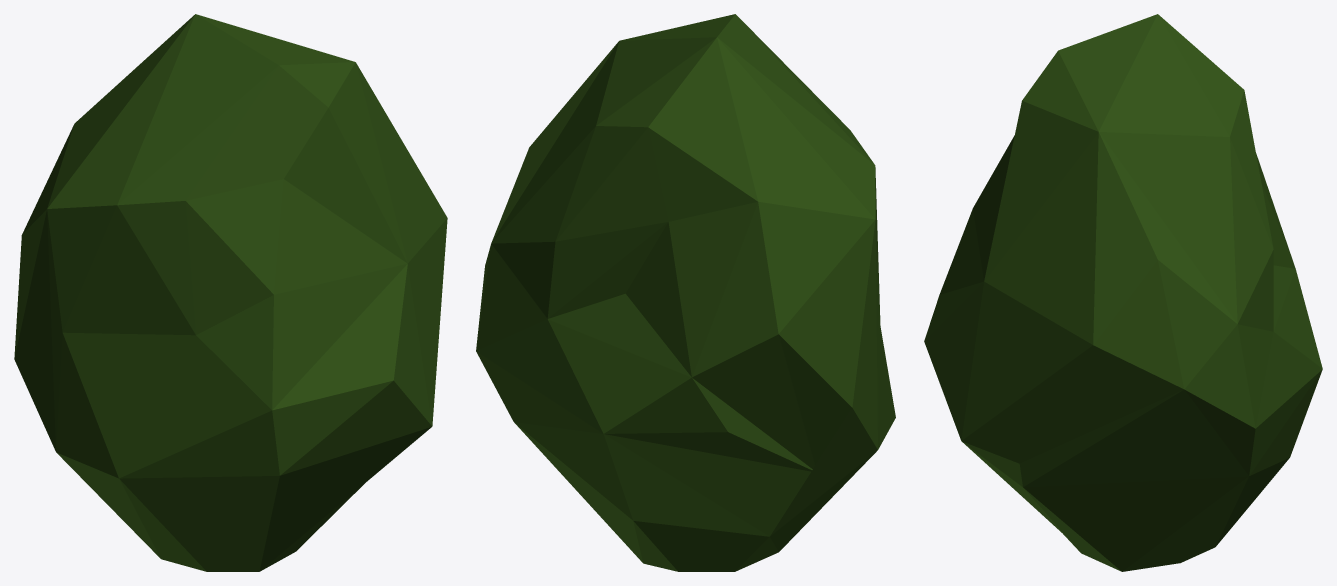
The model's file is Bush.003.fbx.
3 renders of one model, left to right at view 1: azimuth 30°, elevation 25°; view 2: azimuth 150°, elevation 25°; view 3: azimuth 270°, elevation 25°, orthographic. The views are drawn at different scales.
Parts seen in each view (by area): view 1: Bush.003; view 2: Bush.003; view 3: Bush.003.
Part boxes in pixels (bbox=[...]): Bush.003: bbox=[14, 14, 447, 571]; Bush.003: bbox=[476, 14, 895, 571]; Bush.003: bbox=[924, 14, 1322, 571].
Bounding box in the file's own units: 1.14 × 1.51 × 1.06.
